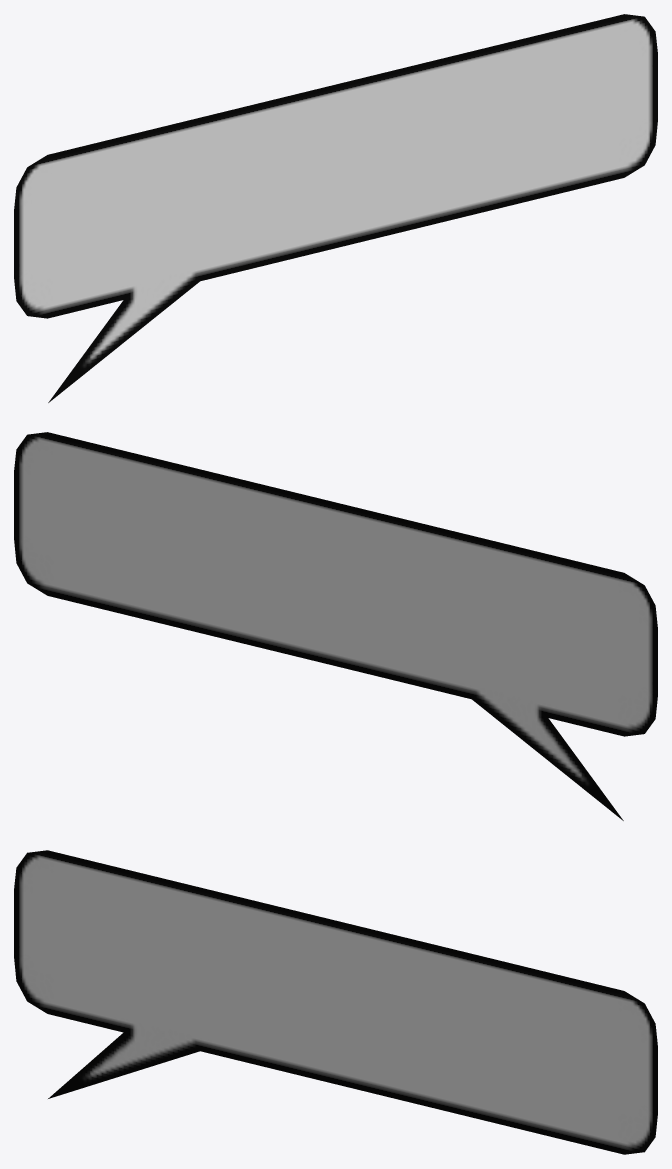
File: chatbox.fbx
3 renders of one model, top to bottom at view 1: azimuth 30°, elevation 25°; view 2: azimuth 150°, elevation 25°; view 3: azimuth 330°, elevation 25°, orthographic.
Visible parts, largest first — view 1: middle, bottom, top; view 2: middle, bottom, top; view 3: middle, bottom, top.
Boxes of the visible parts, <box> form: middle: <box>14,53,657,277</box>; bottom: <box>14,120,657,402</box>; top: <box>14,14,657,210</box>; middle: <box>14,471,657,695</box>; bottom: <box>14,538,657,820</box>; top: <box>14,432,657,628</box>; middle: <box>14,889,657,1113</box>; bottom: <box>14,957,657,1154</box>; top: <box>14,850,657,1046</box>.
Bounding box in the file's own units: 1004 × 371 × 6.04e-05.
Materials: 1 (1 with a texture image).
